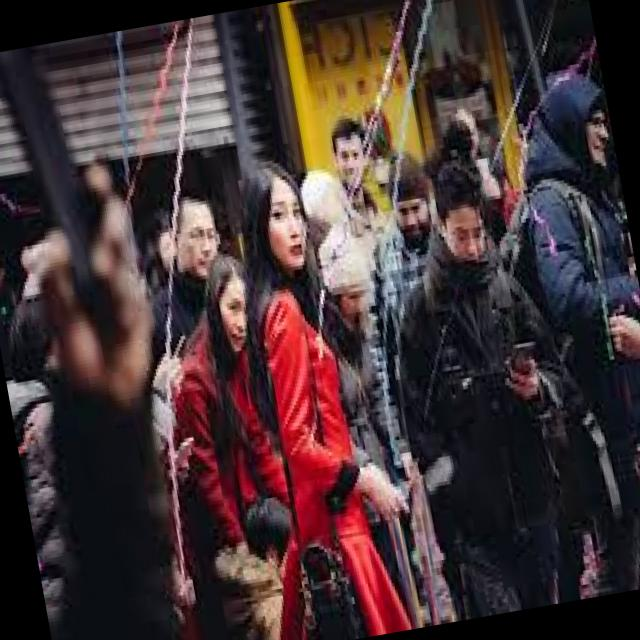Jacket: (367, 238, 593, 580), (237, 276, 416, 640), (127, 323, 310, 640), (514, 166, 640, 494)
